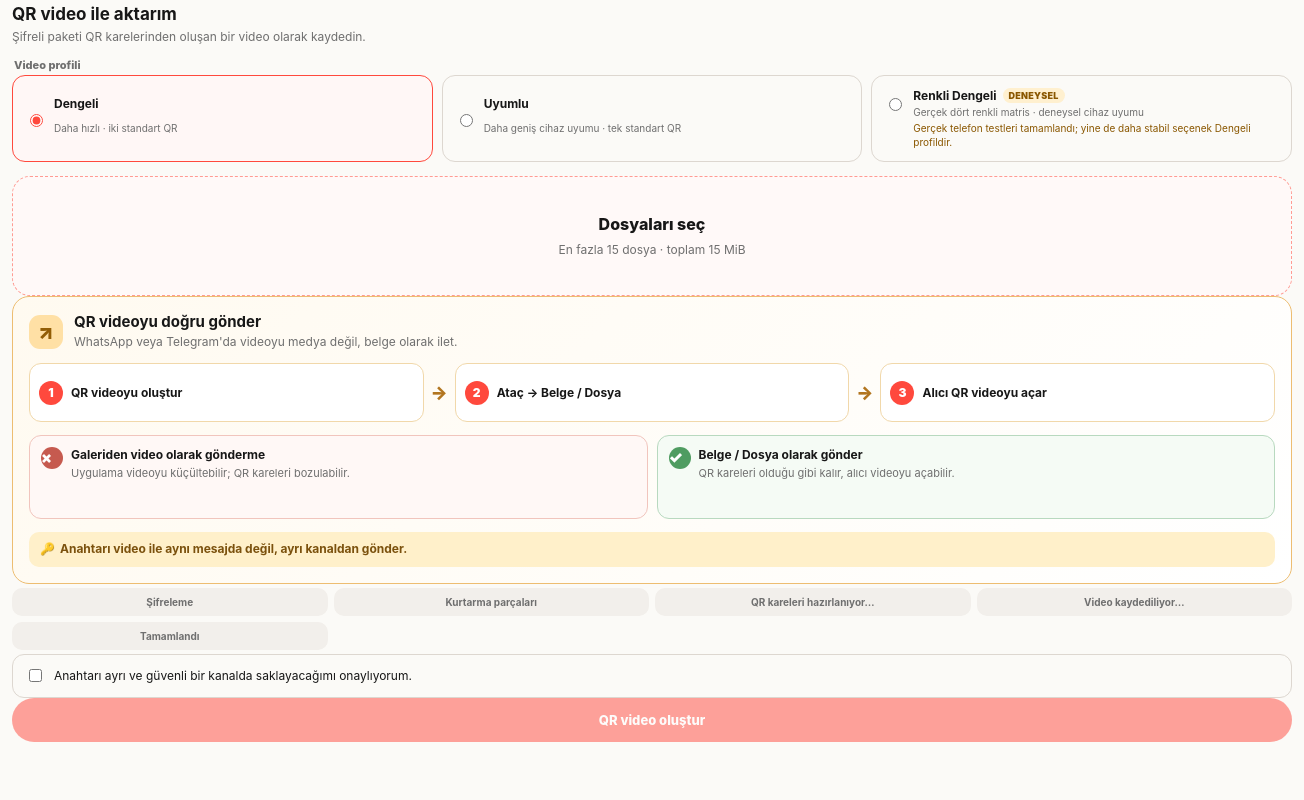
Test case: VideoTransferPanel UI › sıkıştırma aşamasını yalnızca renkli profil için gösterir
The width and height of the screenshot is (1304, 800).
Expected: the text "Sıkıştırma" is not shown
Click the radio button showing "color_balanced".
click(896, 104)  # box top-left (889, 98), bottom-right (902, 111)
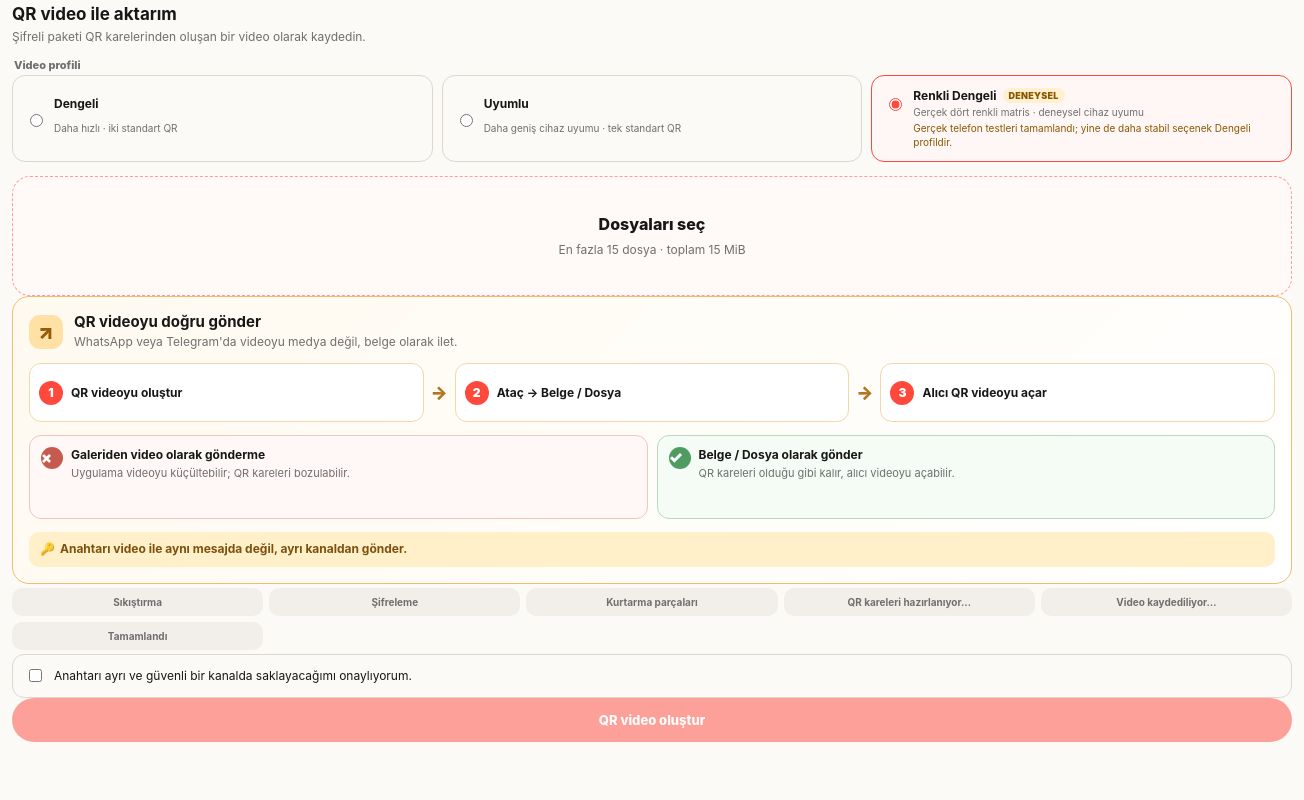
Expected: the list item "Sıkıştırma" is shown, top-left (12, 588), bottom-right (263, 616)
Expected: the list items read "Sıkıştırma", "Şifreleme", "Kurtarma parçaları", "QR kareleri hazırlanıyor…", "Video kaydediliyor…", "Tamamlandı", in this order, top-left (12, 588), bottom-right (263, 616); top-left (269, 588), bottom-right (520, 616); top-left (526, 588), bottom-right (778, 616); top-left (784, 588), bottom-right (1035, 616); top-left (1041, 588), bottom-right (1292, 616); top-left (12, 622), bottom-right (263, 650)
